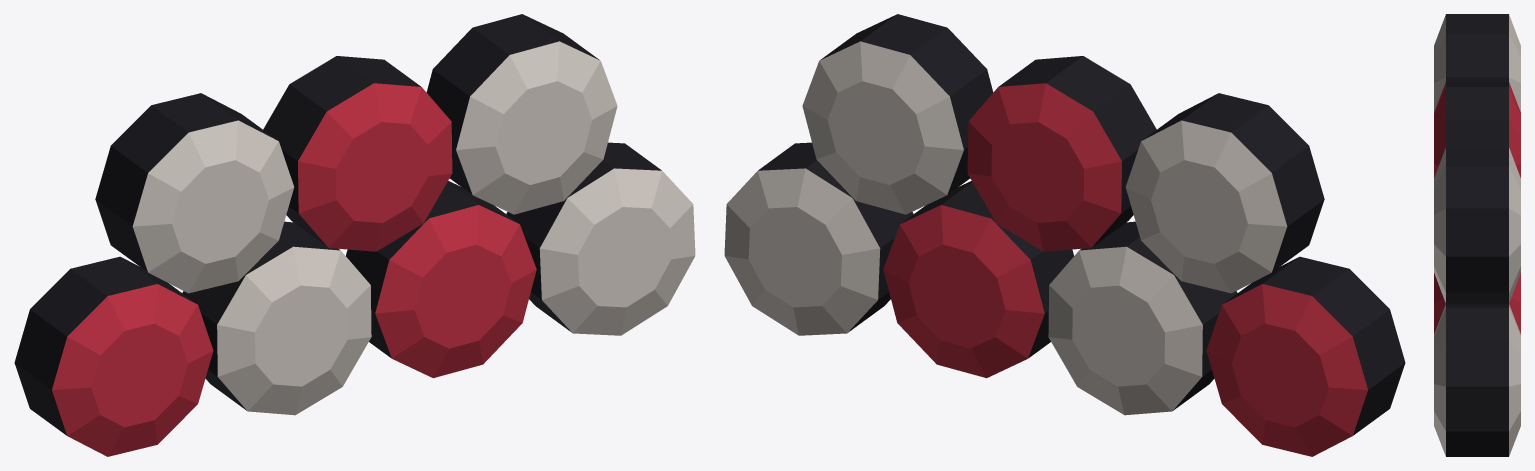
The model's file is tire_wall.glb.
3 renders of one model, left to right at view 1: azimuth 30°, elevation 25°; view 2: azimuth 150°, elevation 25°; view 3: azimuth 270°, elevation 25°, orthographic. The views are drawn at different scales.
Parts seen in each view (by area): view 1: tire_wall; view 2: tire_wall; view 3: tire_wall.
Part boxes in pixels (bbox=[...]): tire_wall: bbox=[14, 14, 695, 456]; tire_wall: bbox=[724, 14, 1405, 456]; tire_wall: bbox=[1434, 14, 1520, 456].
Bounding box in the file's own units: 1.59 × 0.74 × 0.22.
